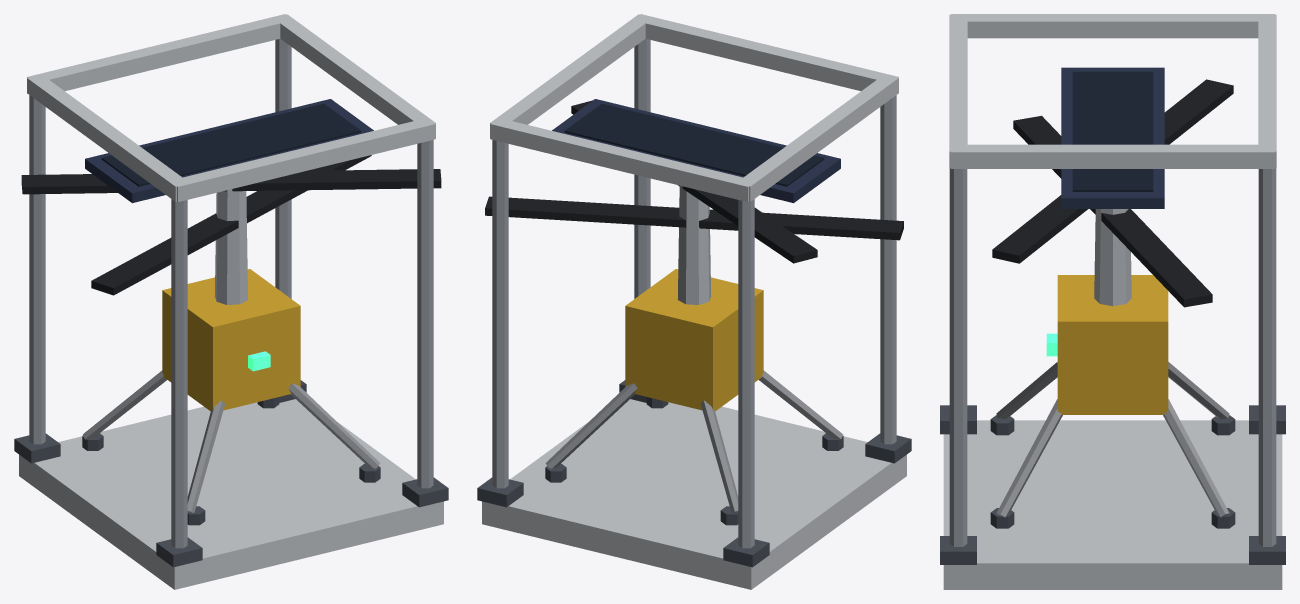
Rendered from truss-ingenuity.glb.
The picture shows the model from 3 angles, left to right: view 1: azimuth 30°, elevation 25°; view 2: azimuth 150°, elevation 25°; view 3: azimuth 270°, elevation 25°; orthographic projection. The views are drawn at different scales.
Parts seen in each view (by area): view 1: TrussIngenuity_Aluminum, TrussIngenuity_Metal, TrussIngenuity_FoilGold, TrussIngenuity_HullBlack, TrussIngenuity_Visor, TrussIngenuity_Strap, TrussIngenuity_Titanium, TrussIngenuity_Steel, TrussIngenuity_Pack; view 2: TrussIngenuity_Aluminum, TrussIngenuity_Metal, TrussIngenuity_FoilGold, TrussIngenuity_HullBlack, TrussIngenuity_Visor, TrussIngenuity_Strap, TrussIngenuity_Titanium, TrussIngenuity_Steel, TrussIngenuity_Pack; view 3: TrussIngenuity_Aluminum, TrussIngenuity_FoilGold, TrussIngenuity_Metal, TrussIngenuity_HullBlack, TrussIngenuity_Visor, TrussIngenuity_Titanium, TrussIngenuity_Strap, TrussIngenuity_Pack, TrussIngenuity_Steel.
Boxes of the visible parts, <box> form: TrussIngenuity_Aluminum: <box>19,14,443,589</box>; TrussIngenuity_Metal: <box>29,38,433,548</box>; TrussIngenuity_FoilGold: <box>162,269,300,411</box>; TrussIngenuity_HullBlack: <box>21,155,441,295</box>; TrussIngenuity_Visor: <box>101,103,361,186</box>; TrussIngenuity_Strap: <box>14,380,448,567</box>; TrussIngenuity_Titanium: <box>83,370,380,512</box>; TrussIngenuity_Steel: <box>215,189,248,304</box>; TrussIngenuity_Pack: <box>85,99,373,203</box>; TrussIngenuity_Aluminum: <box>482,14,906,589</box>; TrussIngenuity_Metal: <box>492,38,896,548</box>; TrussIngenuity_FoilGold: <box>625,269,763,411</box>; TrussIngenuity_HullBlack: <box>485,100,903,263</box>; TrussIngenuity_Visor: <box>564,103,824,186</box>; TrussIngenuity_Strap: <box>477,380,911,567</box>; TrussIngenuity_Titanium: <box>545,370,842,512</box>; TrussIngenuity_Steel: <box>677,185,710,304</box>; TrussIngenuity_Pack: <box>552,99,840,203</box>; TrussIngenuity_Aluminum: <box>943,14,1282,589</box>; TrussIngenuity_FoilGold: <box>1057,275,1168,414</box>; TrussIngenuity_Metal: <box>949,168,1276,546</box>; TrussIngenuity_HullBlack: <box>992,79,1233,307</box>; TrussIngenuity_Visor: <box>1072,71,1153,191</box>; TrussIngenuity_Titanium: <box>996,362,1229,517</box>; TrussIngenuity_Strap: <box>940,405,1285,564</box>; TrussIngenuity_Pack: <box>1061,67,1164,208</box>; TrussIngenuity_Steel: <box>1094,209,1131,306</box>.
Bounding box in the file's own units: 0.5906 × 0.6525 × 0.47.
